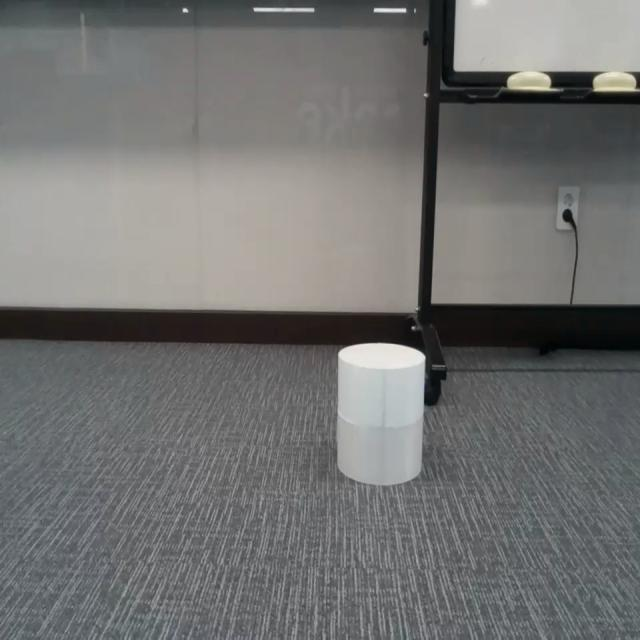cylinder: (336, 342, 426, 486)
